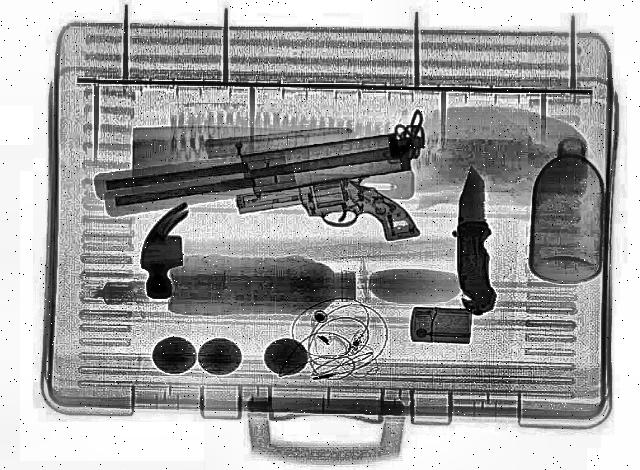Gun: (92, 108, 430, 244)
Knife: (450, 165, 500, 319)
